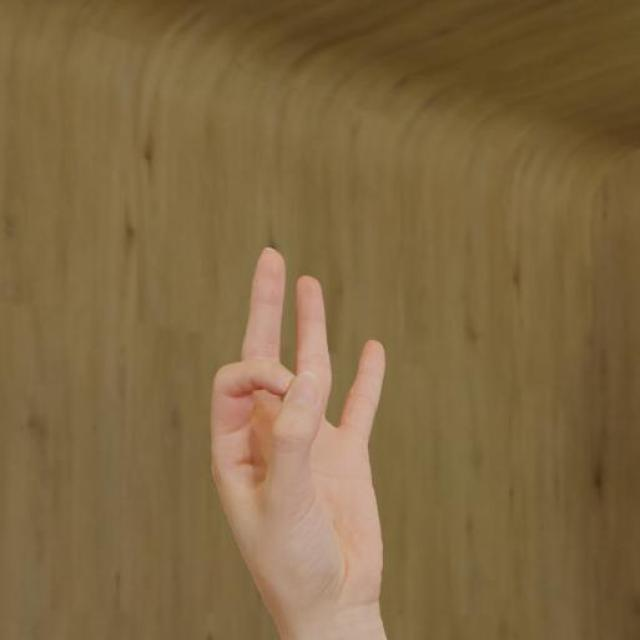F: (206, 242, 392, 612)
